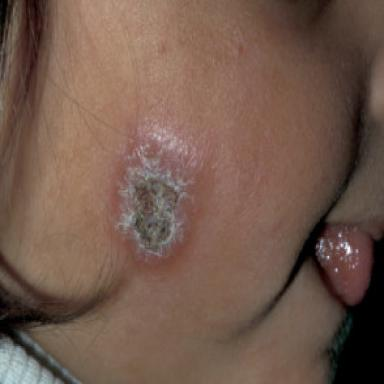Leishmanios: (115, 122, 203, 263)
